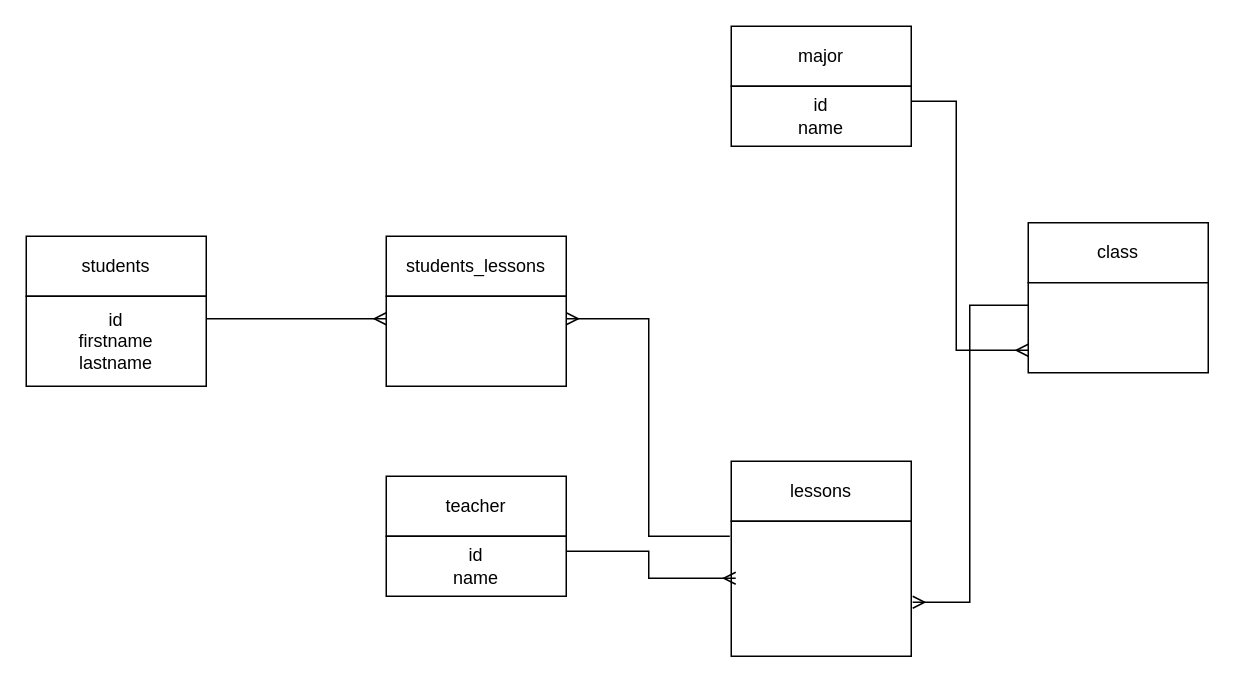
This 1235x683 diagram has some shape labels left out. Each missing label, with the centre of its shape:
id name teacher_id class_id lesson_schedule: the point at 820,588
id room_no major_id: the point at 1117,327
id score lessons_id: the point at 475,340
